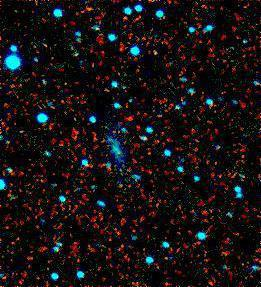star: (113, 108, 143, 138)
